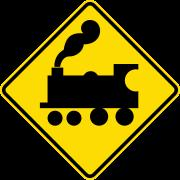Barrier Ahead: (15, 12, 168, 166)
